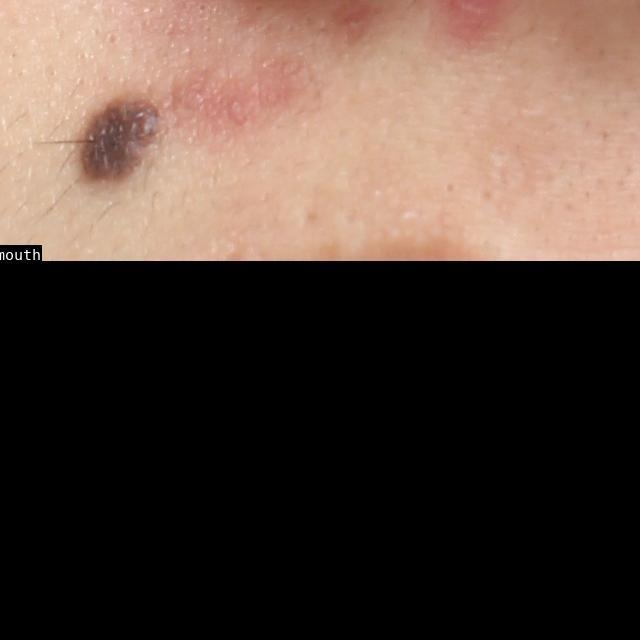nevus: (67, 90, 167, 192)
